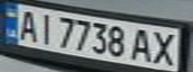3: (87, 20, 109, 56)
7: (69, 17, 93, 52), (54, 15, 75, 48)
8: (106, 22, 130, 60)
A: (127, 27, 157, 63), (12, 7, 42, 43)
I: (33, 11, 57, 45)
X: (148, 29, 181, 68)
